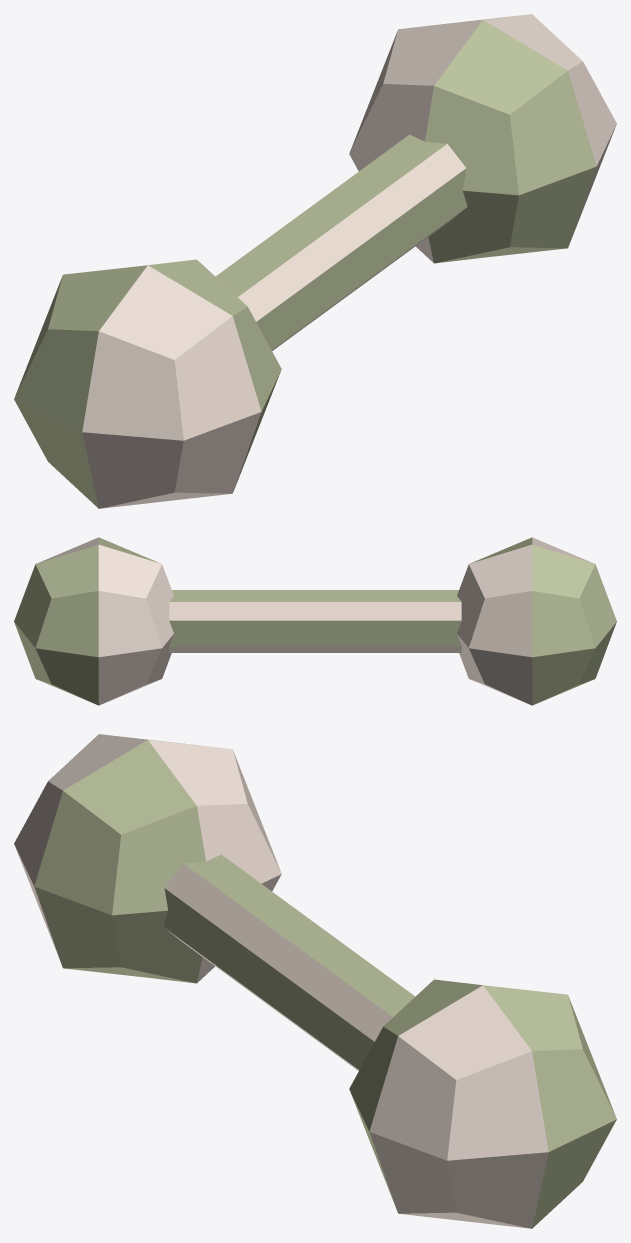
The model's file is Toy_5.fbx.
3 views of the same model, one above another, from view 1: azimuth 30°, elevation 25°; view 2: azimuth 150°, elevation 25°; view 3: azimuth 270°, elevation 25° (orthographic). The views are drawn at different scales.
Parts seen in each view (by area): view 1: Toy_5; view 2: Toy_5; view 3: Toy_5.
Boxes of the visible parts, <box> form: Toy_5: <box>14,14,616,508</box>; Toy_5: <box>14,537,616,705</box>; Toy_5: <box>14,734,616,1228</box>.
Bounding box in the file's own units: 40.13 × 28.53 × 12.42.
